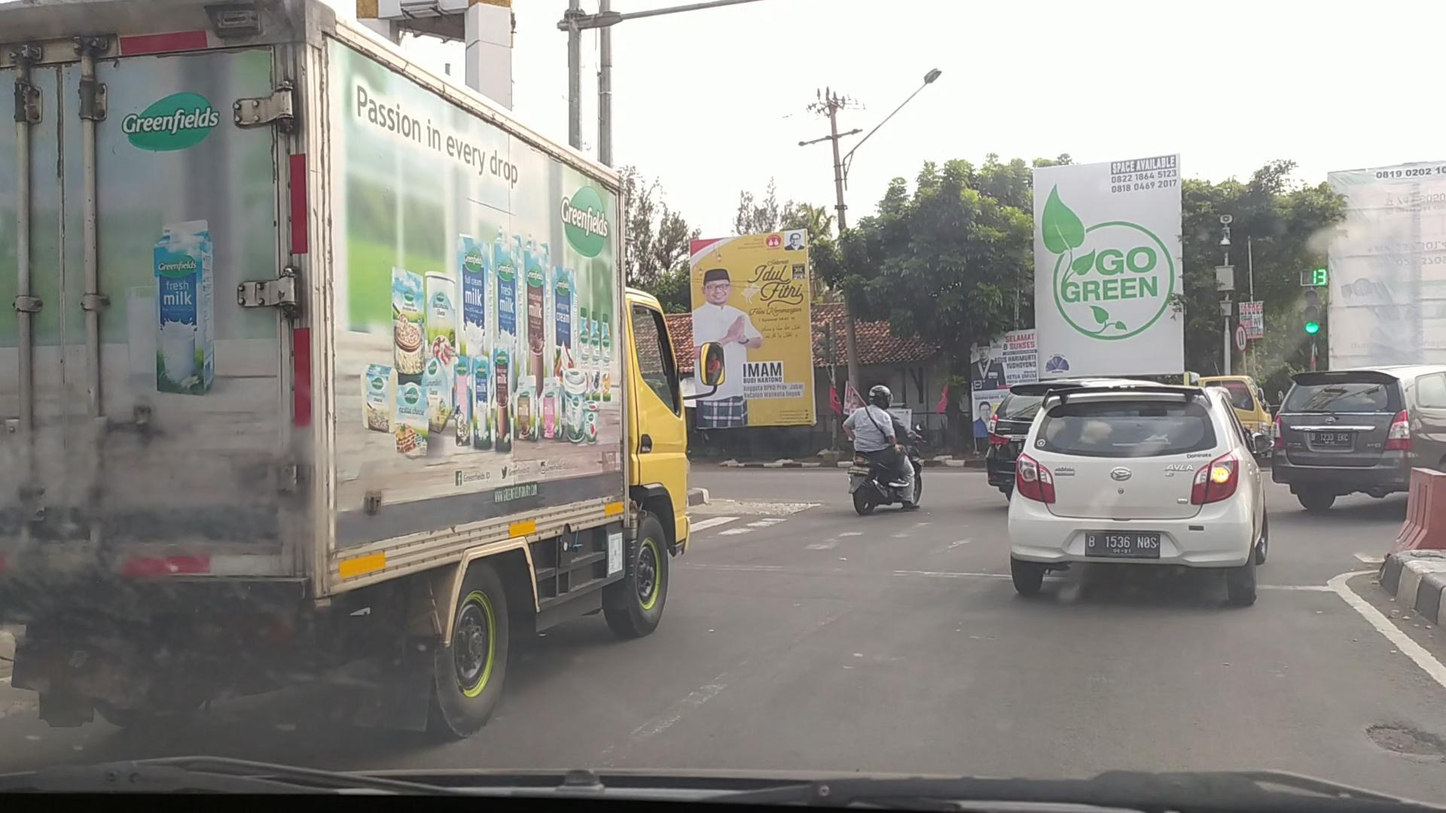pothole: (1362, 721, 1444, 754)
